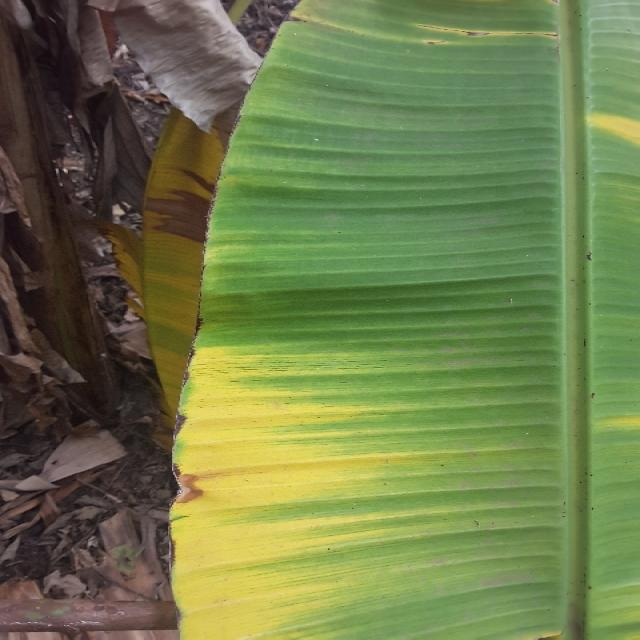Bract_mosaic_virus: (0, 171, 108, 513), (10, 0, 245, 123)
Cordana: (127, 323, 477, 635), (108, 95, 226, 409), (386, 9, 584, 69), (563, 388, 640, 474), (570, 96, 640, 174)
